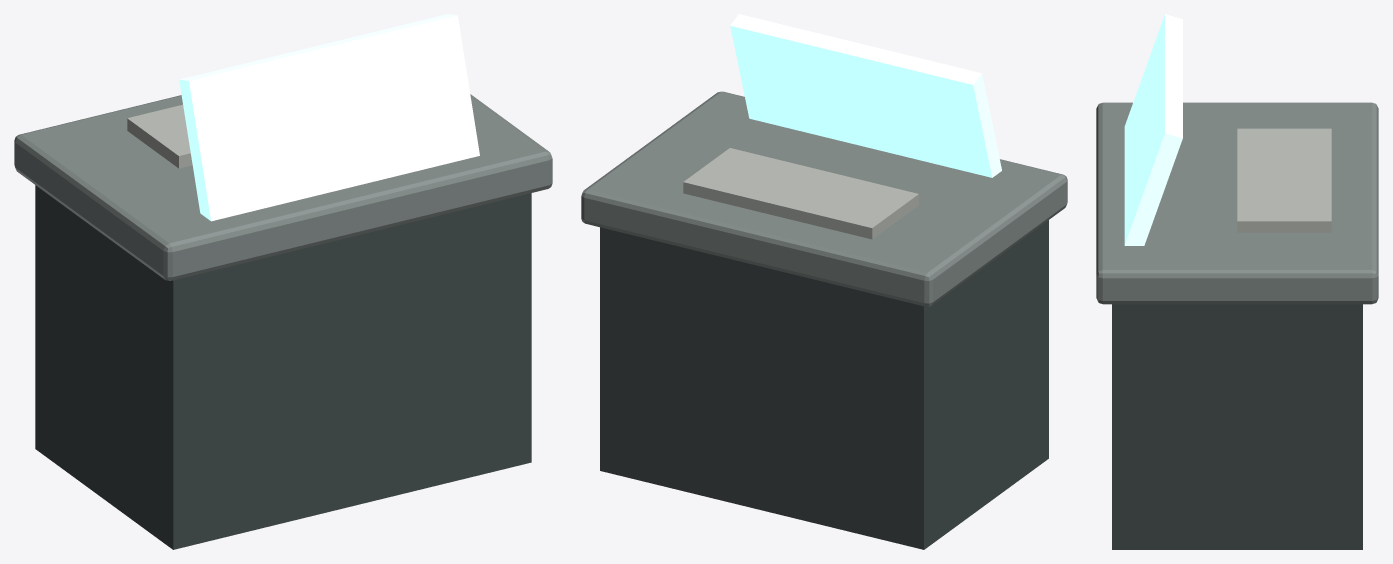
The model's file is prop_console.glb.
The picture shows the model from 3 angles, left to right: view 1: azimuth 30°, elevation 25°; view 2: azimuth 150°, elevation 25°; view 3: azimuth 270°, elevation 25°; orthographic projection. The views are drawn at different scales.
Parts seen in each view (by area): view 1: prop_console; view 2: prop_console; view 3: prop_console.
Part boxes in pixels (x1,y1,x2,y2): prop_console: [14, 14, 552, 549]; prop_console: [581, 14, 1067, 549]; prop_console: [1096, 14, 1378, 549].
Bounding box in the file's own units: 1.3 × 1.4 × 0.9.
